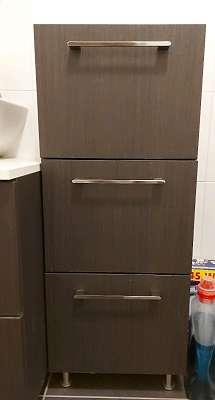cabinet_door: (37, 24, 200, 159), (43, 161, 194, 277), (44, 274, 191, 373)
handle: (70, 172, 168, 193), (72, 290, 166, 311), (66, 37, 175, 53)
